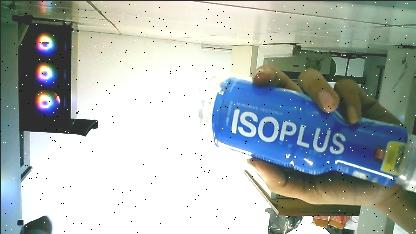Plastic Bottle: (184, 48, 416, 204)
